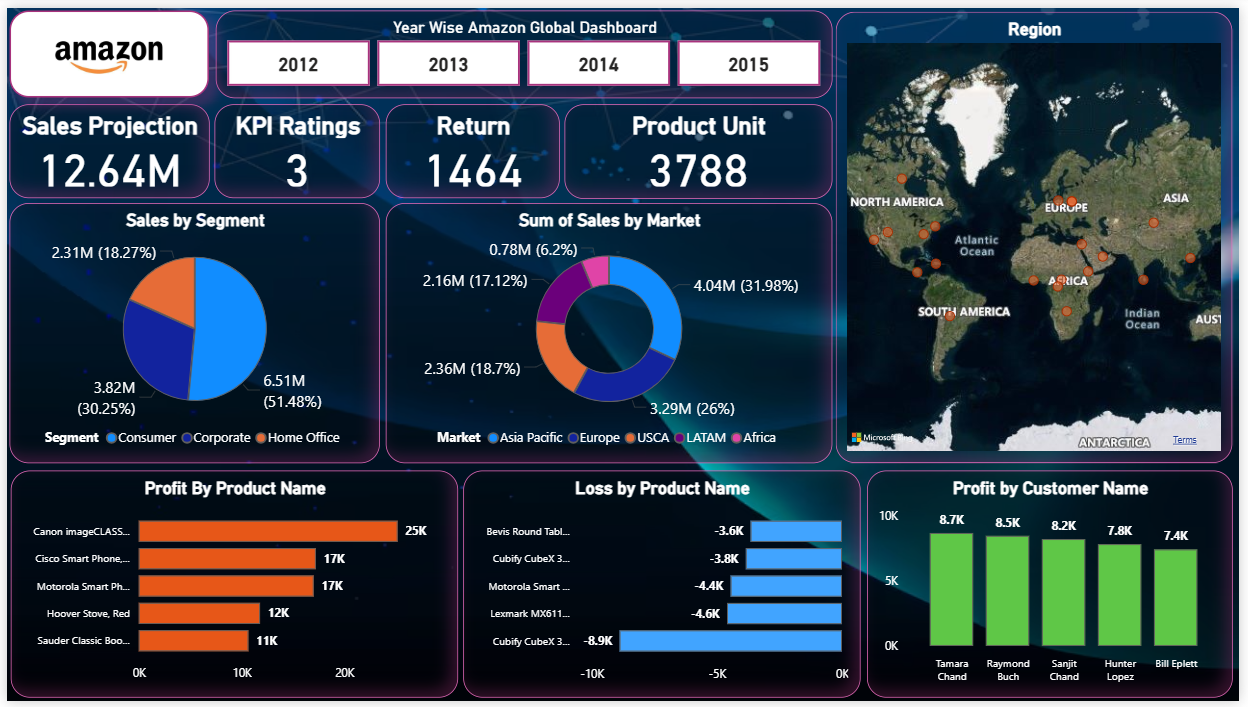

This screenshot's page, from the dashboard's own definition file:
{"tool":"powerbi","page":{"name":"Page 1","canvas":[1280,720],"ordinal":0},"visuals":[{"type":"advancedSlicerVisual","title":"Year Wise Amazon Global Dashboard","fields":{"Values":["Orders.Year"]},"box":[216.4,2.7,640.9,90.9],"z":0},{"type":"card","title":"Sales Projection","fields":{"Values":["Orders.Sales"]},"box":[2.8,100,256.7,97.8],"z":1000},{"type":"image","box":[3.1,3.1,207.5,90.6],"z":2000},{"type":"card","title":"Product Unit ","fields":{"Values":["Orders.Product Name"]},"box":[645.6,100,211.6,98.4],"z":3000},{"type":"card","title":"KPI Ratings","fields":{"Values":["Orders.Quantity"]},"box":[469.2,99.6,170.8,98],"z":4000},{"type":"card","title":"Return","fields":{"Values":["Orders.Ship Date"]},"box":[263.2,99.6,200.8,98],"z":5000},{"type":"pieChart","title":"Sales by Segment","fields":{"Category":["Orders.Segment"],"Y":["Orders.Sales"]},"box":[3,203,385,270],"z":7000},{"type":"donutChart","fields":{"Category":["Orders.Market"],"Y":["Orders.Sales"]},"box":[393,203,464,270],"z":8000},{"type":"columnChart","title":"Profit by Customer Name","fields":{"Category":["Orders.Customer Name"],"Y":["Orders.Profit"]},"box":[893.1,480,380,236.2],"z":9000},{"type":"clusteredBarChart","title":" Profit By Product Name","fields":{"Category":["Orders.Product Name"],"Y":["Orders.Profit"]},"box":[4,480,465,236],"z":10000},{"type":"clusteredBarChart","title":"Loss by Product Name","fields":{"Category":["Orders.Product Name"],"Y":["Orders.Profit"]},"box":[474.4,480,412.5,236.2],"z":11000},{"type":"map","fields":{"Category":["Orders.Region"]},"box":[861.1,3.9,412.2,468.9],"z":12000}]}

Visuals, with their boxes in screenshot pixels (x1, y1, x2, y2), scaled from the page's 1280x720 canvas onto the 1248x707 screenshot:
"Year Wise Amazon Global Dashboard" advancedSlicerVisual: left=211, top=3, right=836, bottom=92
"Sales Projection" card: left=3, top=98, right=253, bottom=194
image: left=3, top=3, right=205, bottom=92
"Product Unit " card: left=629, top=98, right=836, bottom=195
"KPI Ratings" card: left=457, top=98, right=624, bottom=194
"Return" card: left=257, top=98, right=452, bottom=194
"Sales by Segment" pieChart: left=3, top=199, right=378, bottom=464
donutChart - Orders.Market x Orders.Sales: left=383, top=199, right=836, bottom=464
"Profit by Customer Name" columnChart: left=871, top=471, right=1241, bottom=703
" Profit By Product Name" clusteredBarChart: left=4, top=471, right=457, bottom=703
"Loss by Product Name" clusteredBarChart: left=463, top=471, right=865, bottom=703
map - Orders.Region: left=840, top=4, right=1241, bottom=464
